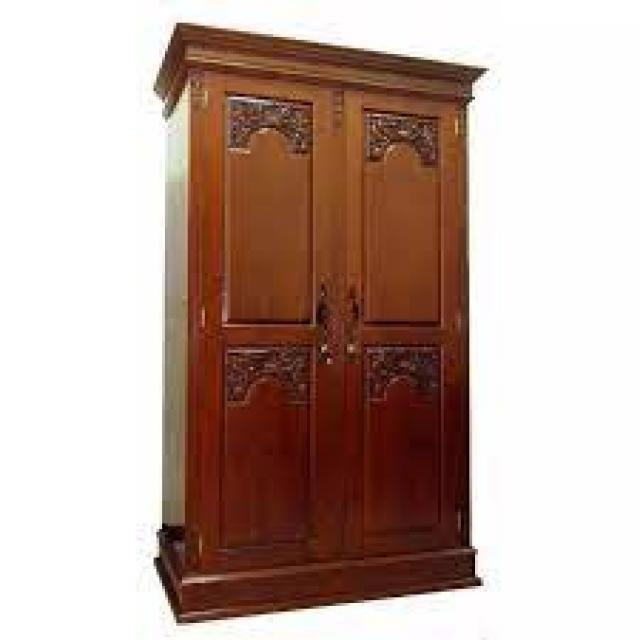Lemari: (151, 22, 488, 622)
